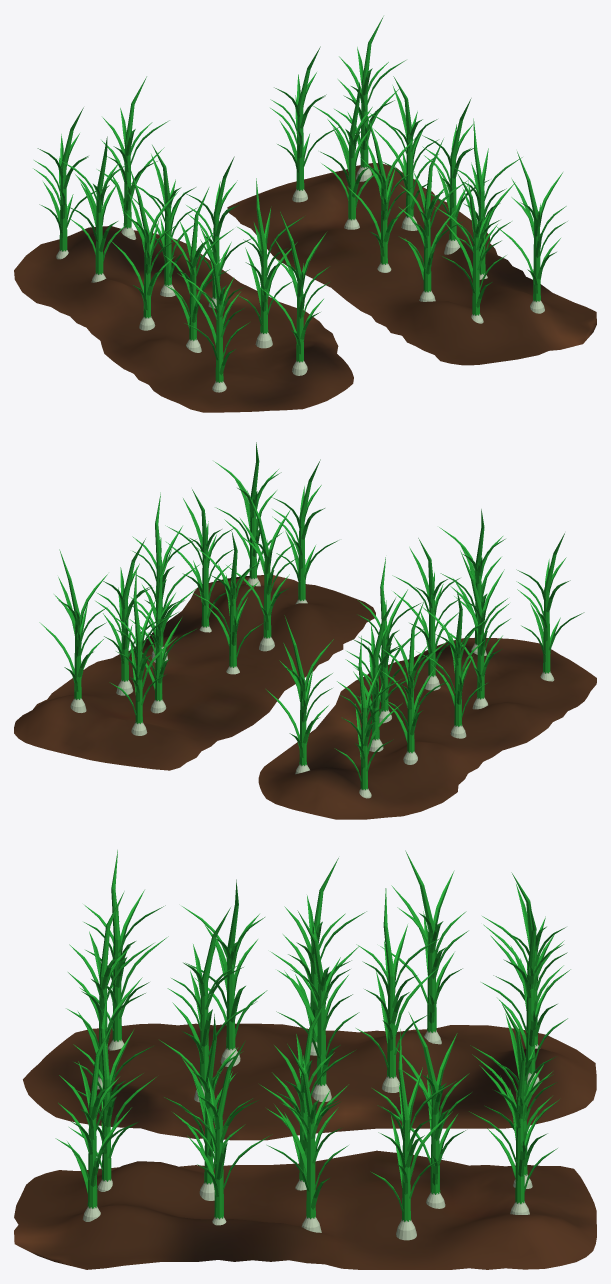
File: Garlic4.fbx
The picture shows the model from 3 angles, top to bottom: view 1: azimuth 30°, elevation 25°; view 2: azimuth 150°, elevation 25°; view 3: azimuth 270°, elevation 25°; orthographic projection. The views are drawn at different scales.
Visible parts, largest first — view 1: 4; view 2: 4; view 3: 4.
Part boxes in pixels (bbox=[...]): 4: bbox=[14, 16, 596, 412]; 4: bbox=[14, 442, 596, 819]; 4: bbox=[14, 850, 596, 1269].
Size of the model in its own units: 174 by 72.63 by 175.
